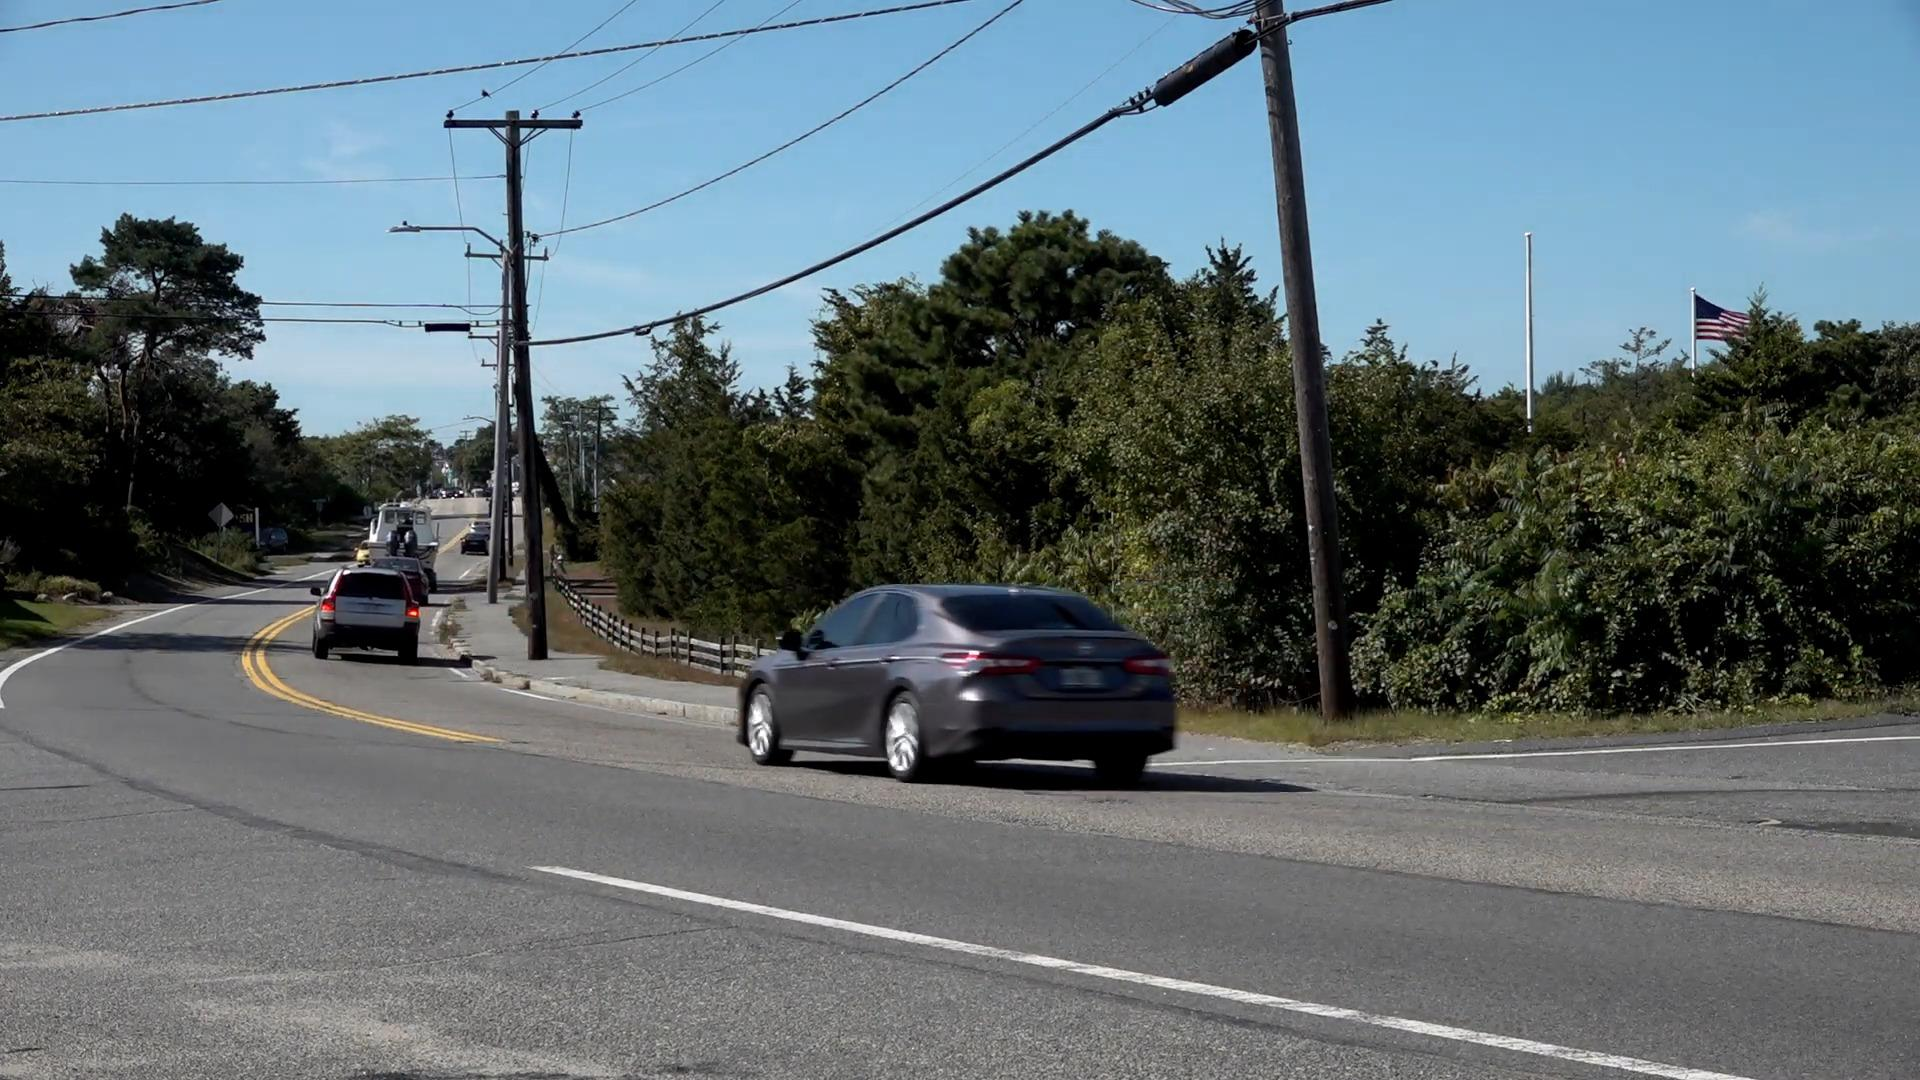sedans: (727, 580, 1182, 791)
suv: (313, 564, 422, 663)
